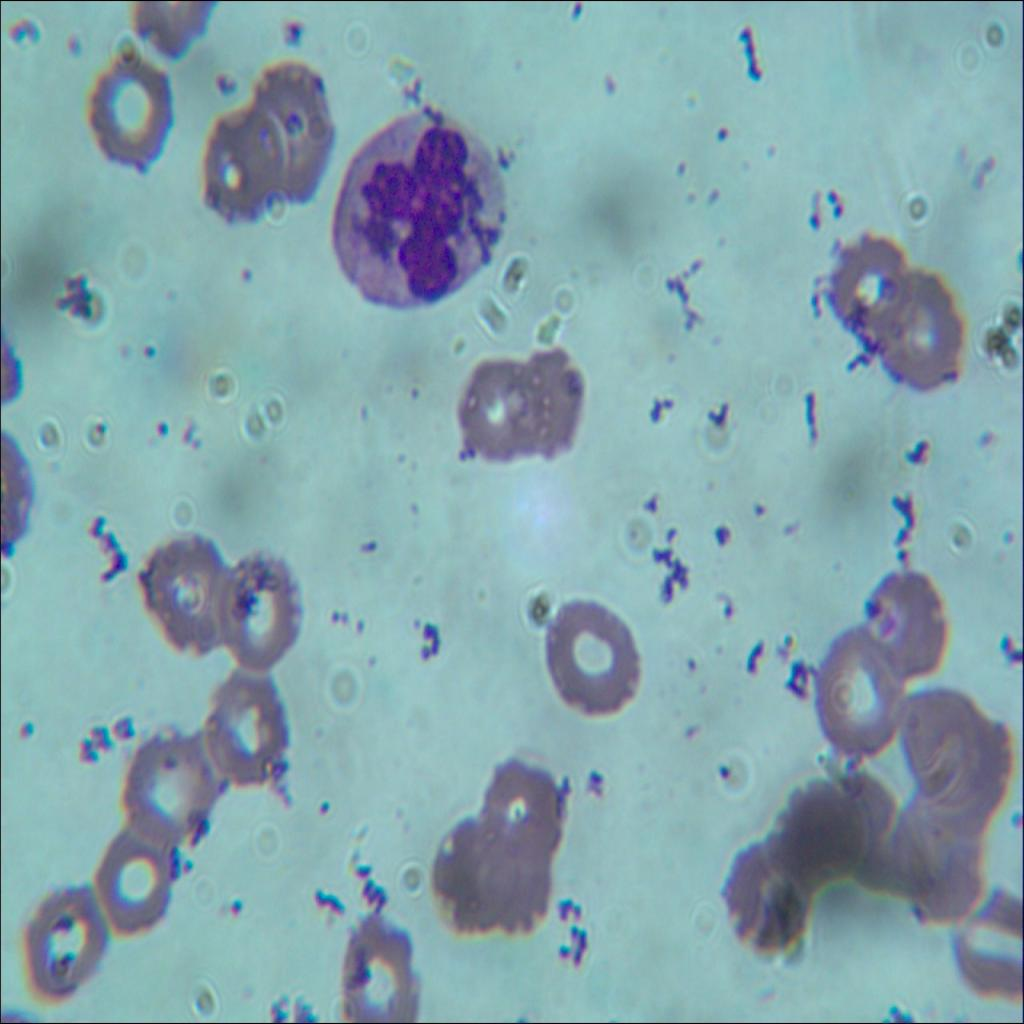Eritrosit: (126, 528, 226, 654), (253, 57, 336, 206), (888, 792, 979, 924), (766, 778, 864, 898), (542, 595, 640, 713), (193, 671, 291, 788), (871, 266, 964, 388), (818, 628, 904, 758), (206, 550, 298, 668), (20, 885, 110, 1002), (860, 559, 946, 680), (726, 841, 812, 962), (84, 52, 173, 164), (942, 879, 1023, 1002), (470, 817, 553, 936), (834, 766, 906, 902), (89, 824, 176, 934), (126, 737, 214, 838), (210, 111, 289, 221), (431, 815, 509, 926), (336, 918, 418, 1023), (518, 344, 592, 458), (928, 718, 1009, 821), (832, 232, 906, 342), (459, 354, 533, 456), (484, 764, 564, 858), (896, 685, 968, 781)
Neutrofil: (330, 111, 509, 312)
Platelet: (226, 252, 264, 291), (12, 704, 38, 751), (713, 588, 741, 628), (709, 512, 735, 551), (308, 790, 334, 828), (709, 116, 738, 150), (149, 408, 175, 445), (135, 338, 163, 369), (746, 495, 771, 528), (222, 886, 246, 920), (976, 419, 998, 456), (681, 648, 701, 682), (711, 757, 735, 784), (66, 29, 86, 61), (670, 150, 690, 180), (598, 65, 618, 95)
